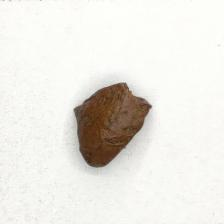NG: (73, 80, 155, 123)
